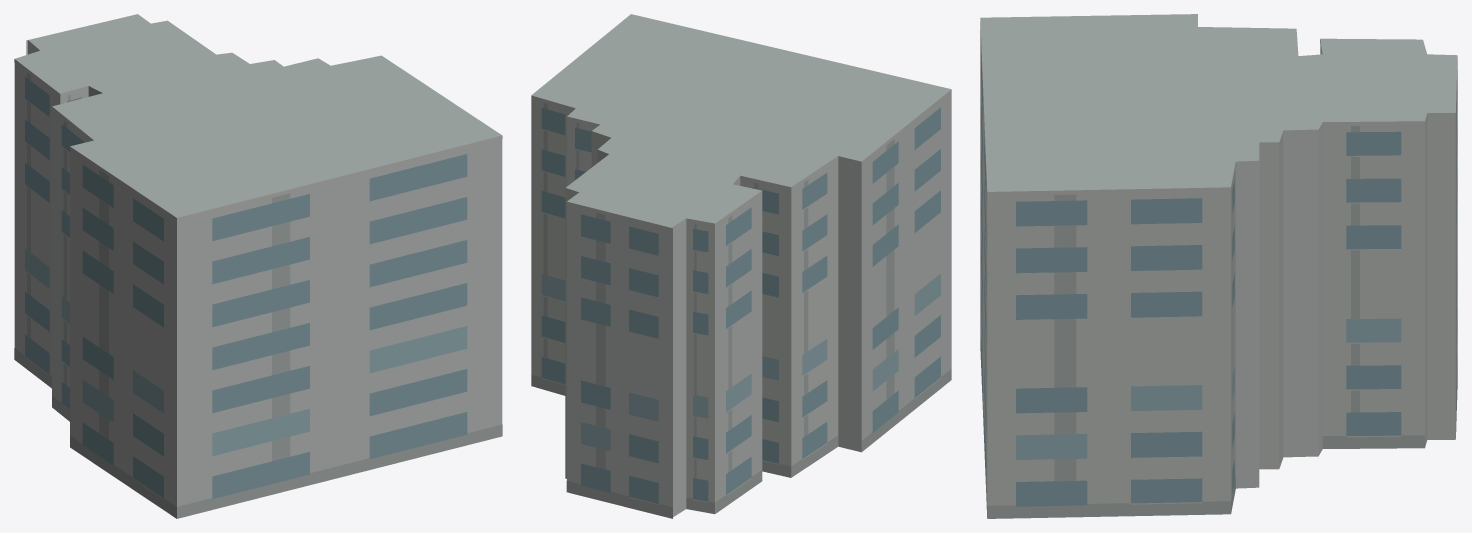
Rendered from survey-upis-32666374.glb.
3 views of the same model, side by side, from view 1: azimuth 30°, elevation 25°; view 2: azimuth 150°, elevation 25°; view 3: azimuth 270°, elevation 25° (orthographic). The views are drawn at different scales.
Parts seen in each view (by area): view 1: survey-upis-32666374.tmp; view 2: survey-upis-32666374.tmp; view 3: survey-upis-32666374.tmp.
Boxes of the visible parts, left/top/right/bottom form: survey-upis-32666374.tmp: left=14, top=14, right=502, bottom=518; survey-upis-32666374.tmp: left=531, top=14, right=951, bottom=518; survey-upis-32666374.tmp: left=980, top=14, right=1457, bottom=518.
Bounding box in the file's own units: 21.84 × 18.7 × 24.75.
